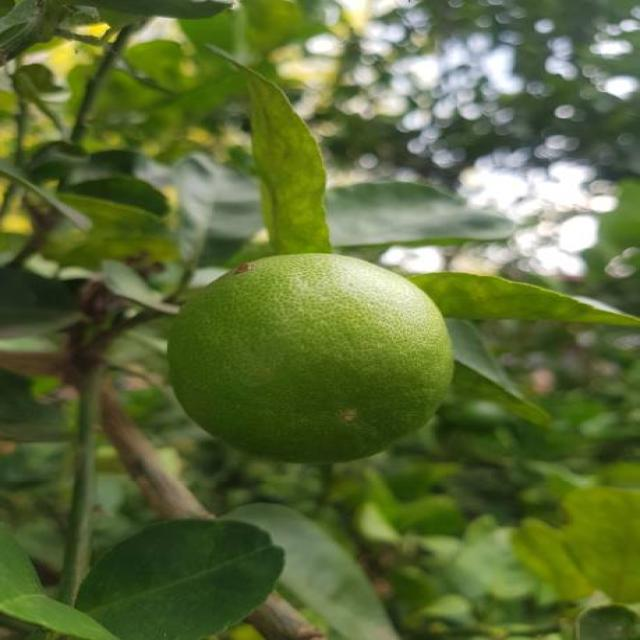Unripe: (164, 251, 454, 464)
